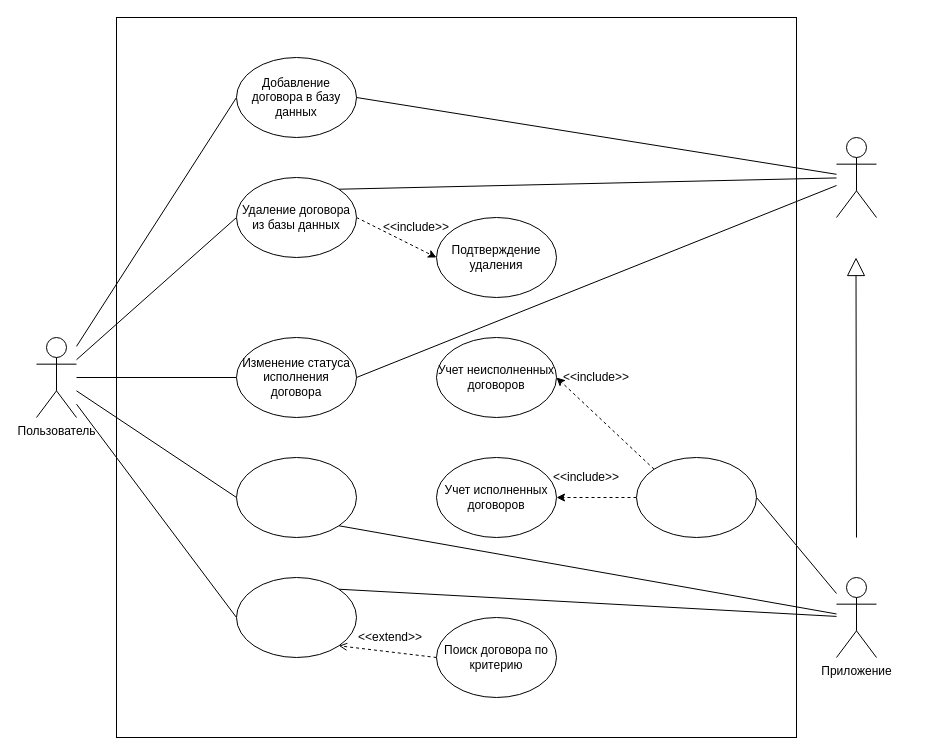
The diagram is 932 pixels wide and 755 high, and some of its shapes have lost their labels. Each missing label, with the centre of its shape:
"Объект доступа к БД" belongs at (x=856, y=177).
"Открытие договора" belongs at (x=296, y=497).
"Поиск договора в базе данных" belongs at (x=296, y=617).
"Учет всех договоров" belongs at (x=696, y=497).
